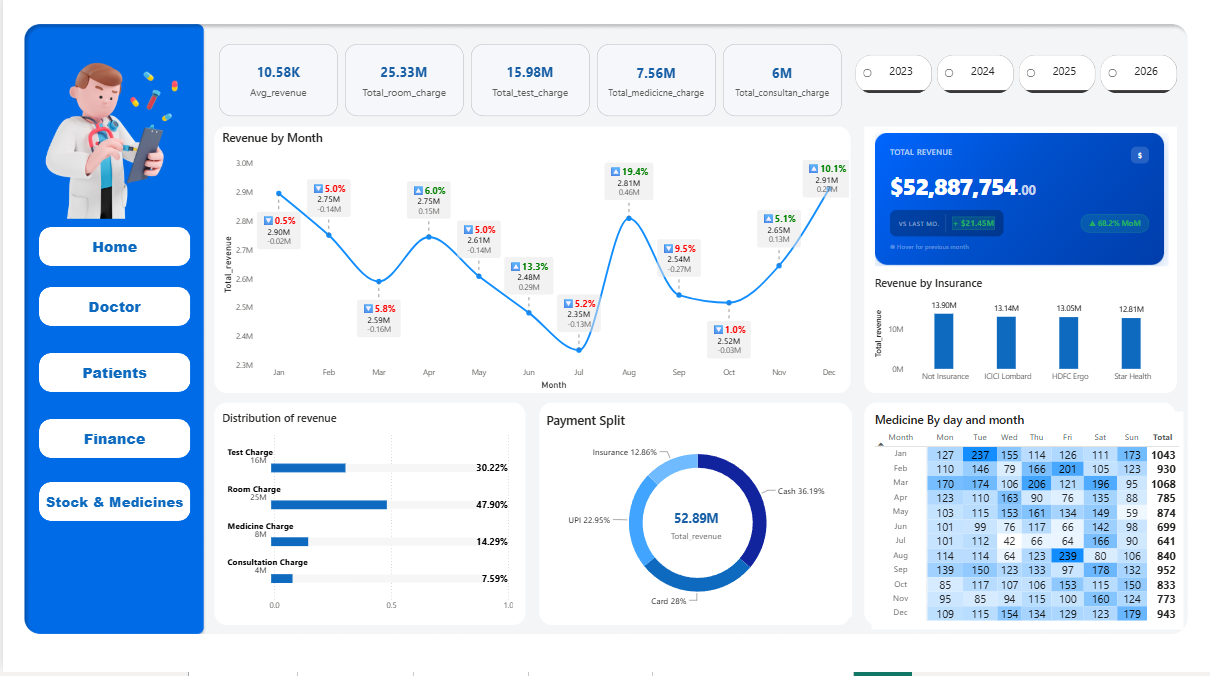

This screenshot's page, from the dashboard's own definition file:
{"tool":"powerbi","page":{"name":"Finance","canvas":[1920,1080],"ordinal":3},"visuals":[{"type":"card","fields":{"Values":["Revenue_measures.Avg_revenue"]},"box":[343.6,81.1,188.5,114.5],"z":0},{"type":"card","fields":{"Values":["Revenue_measures.Total_room_charge"]},"box":[544,81.7,188.5,114.5],"z":1000},{"type":"card","fields":{"Values":["Sum(patients.doctors.consultation_fee)"]},"box":[1145.2,81.7,188.5,114.5],"z":2000},{"type":"card","fields":{"Values":["patients.Total_test_charge"]},"box":[744.4,81.7,188.5,114.5],"z":3000},{"type":"actionButton","box":[1574.7,66.8,52.5,52.5],"z":4000},{"type":"pivotTable","title":"Medicine By day and month","fields":{"Columns":["Calender_table.Day"],"Rows":["Calender_table.Month"],"Values":["Sum(medicine_dispensing.quantity_dispensed)"]},"box":[1381.4,665.7,495,346],"z":5000},{"type":"card","fields":{"Values":["Revenue_measures.Total_medicicne_charge"]},"box":[944.8,81.7,188.5,114.5],"z":6000},{"type":"htmlContent443BE3AD55E043BF878BED274D3A6855","fields":{"content":["Revenue_measures._HTML_RevKPI"]},"box":[1381.4,217.1,477.2,221.9],"z":8000},{"type":"donutChart","title":"Payment Split","fields":{"Category":["patients.bills.payment_mode"],"Y":["Revenue_measures.Total_revenue"]},"box":[858.9,665.7,491.5,326.9],"z":10000},{"type":"lineChart","title":"Revenue by Month","fields":{"Category":["Calender_table.Month"],"Y":["Revenue_measures.Total_revenue"]},"box":[343.6,217.1,1006.9,417.5],"z":11000},{"type":"clusteredBarChart","title":"Distribution of revenue","fields":{"Category":["Finance_Charges.Charge_Type"],"Y":["Revenue_measures.header","Revenue_measures.subheader","Revenue_measures.Total_bar"]},"box":[343.6,663.3,472.4,329.3],"z":12000},{"type":"clusteredColumnChart","title":"Revenue by Insurance ","fields":{"Category":["patients.insurance_provider"],"Y":["Revenue_measures.Total_revenue"]},"box":[1381.4,448.6,477.2,178.9],"z":13000},{"type":"card","fields":{"Values":["Revenue_measures.Total_revenue"]},"box":[1037.9,804.1,128.8,83.5],"z":14000},{"type":"image","box":[45.3,52.5,262.5,350.7],"z":15000},{"type":"shape","box":[57.3,466.7,241,62],"z":15001},{"type":"shape","box":[57.3,571.7,241,62],"z":15002},{"type":"shape","box":[57.3,676.7,241,62],"z":15003},{"type":"shape","box":[57.3,776.9,241,62],"z":15004},{"type":"actionButton","box":[57.3,466.7,241,62],"z":15005},{"type":"actionButton","box":[57.3,571.7,241,62],"z":15006},{"type":"actionButton","box":[57.3,676.7,241,62],"z":15007},{"type":"actionButton","box":[67.3,786.9,241,62],"z":15008},{"type":"shape","box":[57.3,371.4,241,62],"z":15009},{"type":"actionButton","box":[57.3,369.1,241,62],"z":15010},{"type":"advancedSlicerVisual","fields":{"Values":["Calender_table.Month"]},"box":[1381.4,66.8,477.2,128.8],"z":15011}]}

Visuals, with their boxes on the page's 1920x1080 design canvas (x1, y1, x2, y2). These are canvas units, not pixel positions in the 1210x676 screenshot, which may show the page scaled, cropped or inside an application window:
card - Revenue_measures.Avg_revenue: box(344, 81, 532, 196)
card - Revenue_measures.Total_room_charge: box(544, 82, 732, 196)
card - Sum(patients.doctors.consultation_fee): box(1145, 82, 1334, 196)
card - patients.Total_test_charge: box(744, 82, 933, 196)
actionButton: box(1575, 67, 1627, 119)
"Medicine By day and month" pivotTable: box(1381, 666, 1876, 1012)
card - Revenue_measures.Total_medicicne_charge: box(945, 82, 1133, 196)
htmlContent443BE3AD55E043BF878BED274D3A6855 - Revenue_measures._HTML_RevKPI: box(1381, 217, 1859, 439)
"Payment Split" donutChart: box(859, 666, 1350, 993)
"Revenue by Month" lineChart: box(344, 217, 1350, 635)
"Distribution of revenue" clusteredBarChart: box(344, 663, 816, 993)
"Revenue by Insurance " clusteredColumnChart: box(1381, 449, 1859, 628)
card - Revenue_measures.Total_revenue: box(1038, 804, 1167, 888)
image: box(45, 52, 308, 403)
shape: box(57, 467, 298, 529)
shape: box(57, 572, 298, 634)
shape: box(57, 677, 298, 739)
shape: box(57, 777, 298, 839)
actionButton: box(57, 467, 298, 529)
actionButton: box(57, 572, 298, 634)
actionButton: box(57, 677, 298, 739)
actionButton: box(67, 787, 308, 849)
shape: box(57, 371, 298, 433)
actionButton: box(57, 369, 298, 431)
advancedSlicerVisual - Calender_table.Month: box(1381, 67, 1859, 196)
